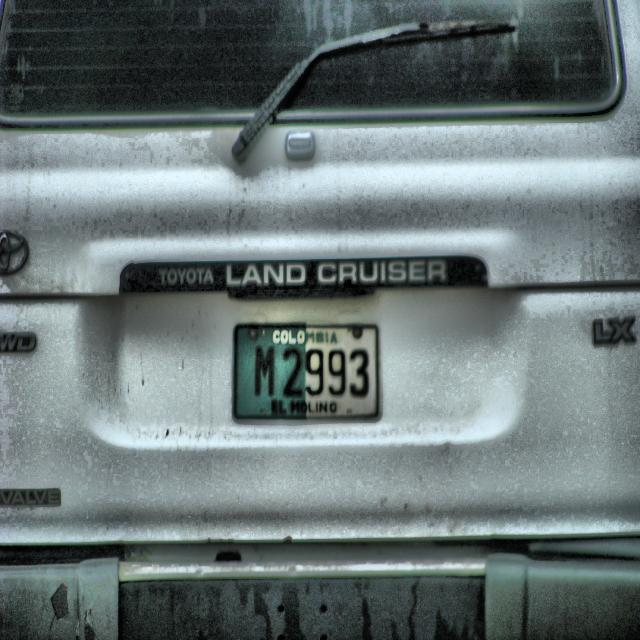plate: (231, 321, 380, 420)
